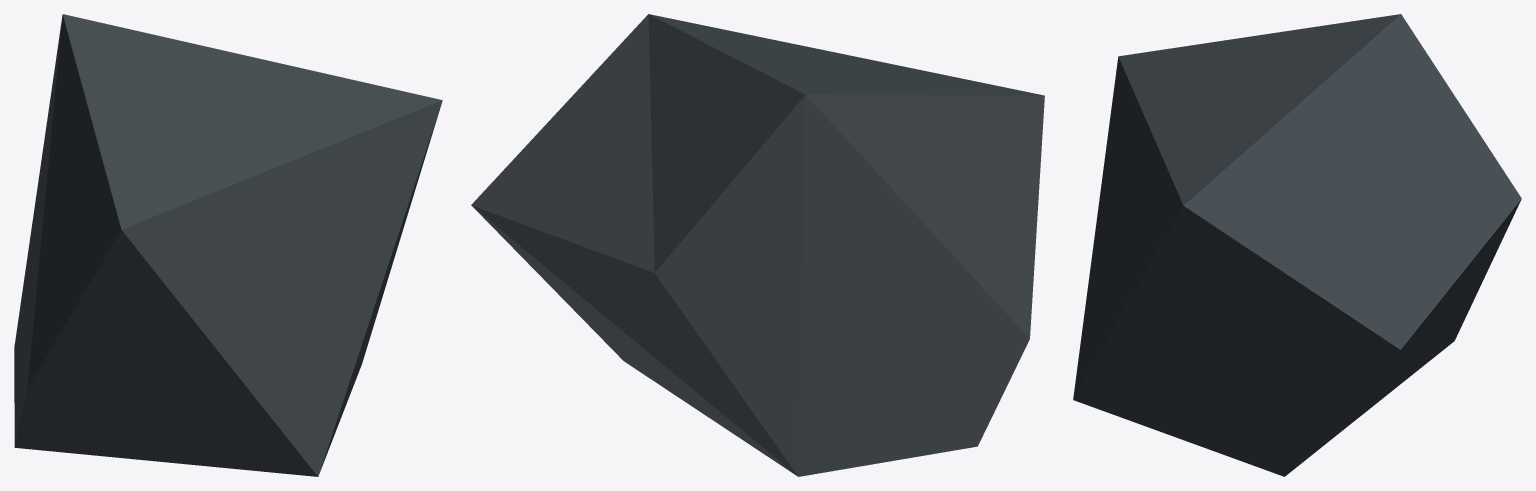
The model's file is Rock-C15.fbx.
The picture shows the model from 3 angles, left to right: view 1: azimuth 30°, elevation 25°; view 2: azimuth 150°, elevation 25°; view 3: azimuth 270°, elevation 25°; orthographic projection. The views are drawn at different scales.
Visible parts, largest first — view 1: Rock-C15; view 2: Rock-C15; view 3: Rock-C15.
Boxes of the visible parts, x1,y1,x2,y2 form: Rock-C15: [14, 14, 442, 476]; Rock-C15: [471, 14, 1044, 476]; Rock-C15: [1073, 14, 1521, 476].
Bounding box in the file's own units: 33.82 × 25.79 × 29.91.
